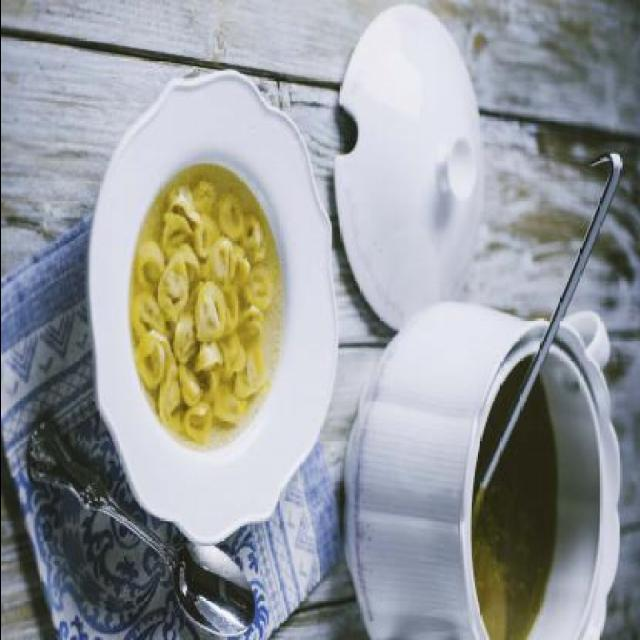Tortellini in broth: (124, 169, 282, 453)
